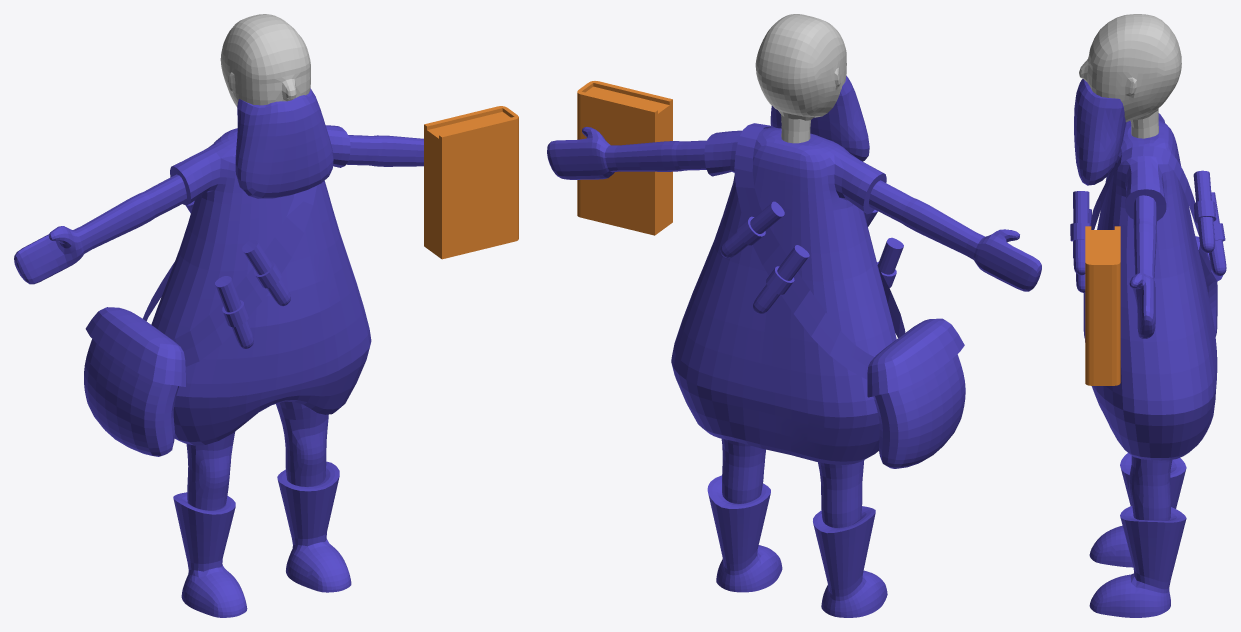
Rendered from alchemist_notriggedFORZBRUSH.FBX.
3 renders of one model, left to right at view 1: azimuth 30°, elevation 25°; view 2: azimuth 150°, elevation 25°; view 3: azimuth 270°, elevation 25°, orthographic.
Parts seen in each view (by area): view 1: alchemist; view 2: alchemist; view 3: alchemist.
Part boxes in pixels (x1=…): alchemist: x1=14, y1=14, x2=518, y2=617; alchemist: x1=547, y1=14, x2=1041, y2=617; alchemist: x1=1070, y1=14, x2=1226, y2=617.
Bounding box in the file's own units: 162 × 180 × 45.34.
